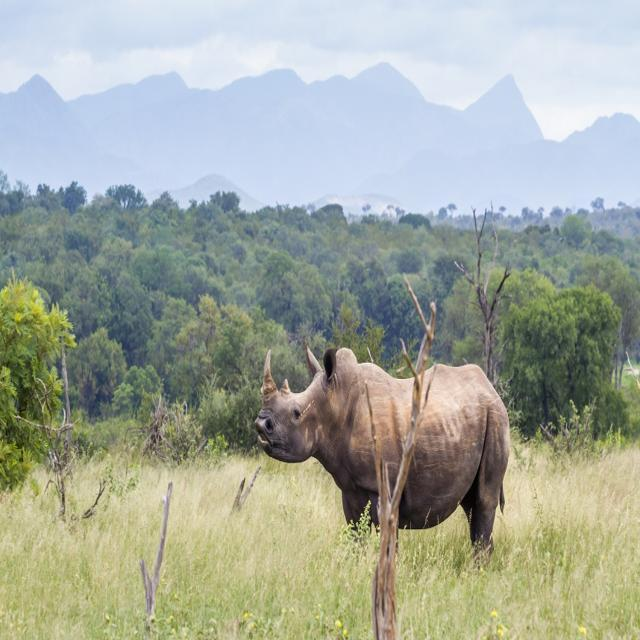Rinoceros: (215, 318, 536, 562)
